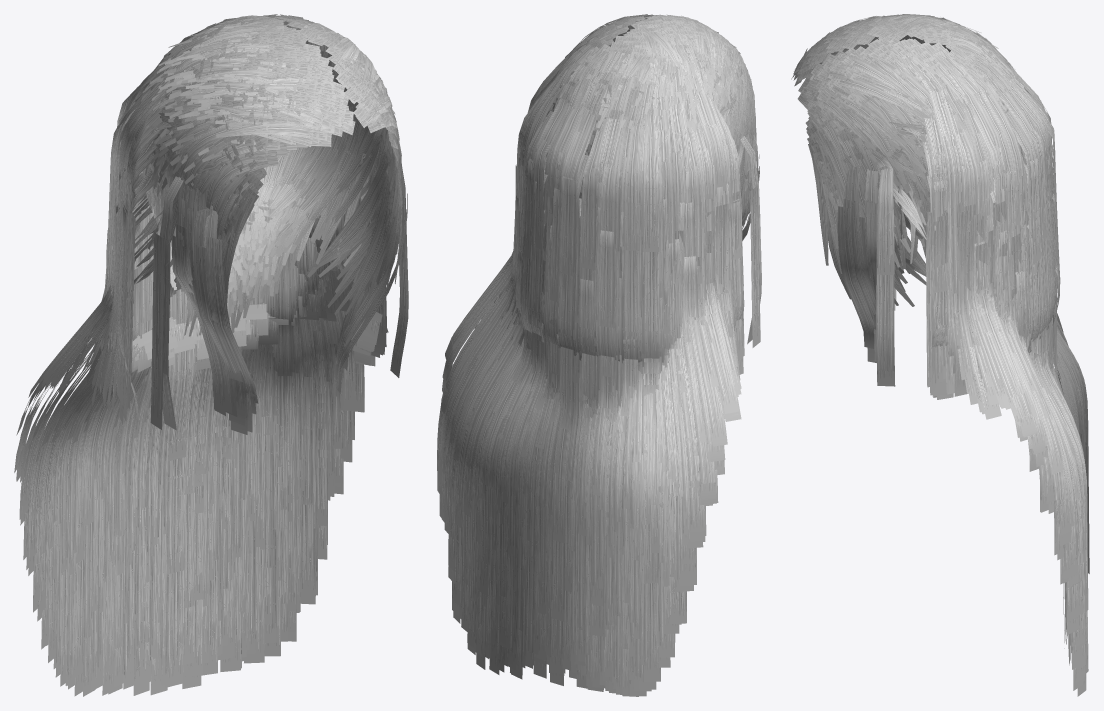
Rendered from NC_Head_Female_Cards4.fbx.
3 views of the same model, side by side, from view 1: azimuth 30°, elevation 25°; view 2: azimuth 150°, elevation 25°; view 3: azimuth 270°, elevation 25° (orthographic). The views are drawn at different scales.
Parts seen in each view (by area): view 1: Hair_LongStraight_CapCards, Hair_Bob_Cards, Hair_Bob_Cards_2, Hair_LongStraight_CapCards_2; view 2: Hair_Bob_Cards_2, Hair_LongStraight_CapCards, Hair_LongStraight_CapCards_2, Hair_Bob_Cards; view 3: Hair_Bob_Cards_2, Hair_Bob_Cards, Hair_LongStraight_CapCards, Hair_LongStraight_CapCards_2.
Part boxes in pixels (bbox=[...]): Hair_LongStraight_CapCards: bbox=[16, 131, 401, 696]; Hair_Bob_Cards: bbox=[141, 14, 402, 336]; Hair_Bob_Cards_2: bbox=[57, 15, 408, 434]; Hair_LongStraight_CapCards_2: bbox=[14, 173, 407, 690]; Hair_Bob_Cards_2: bbox=[481, 15, 761, 375]; Hair_LongStraight_CapCards: bbox=[437, 127, 760, 696]; Hair_LongStraight_CapCards_2: bbox=[437, 138, 759, 695]; Hair_Bob_Cards: bbox=[543, 14, 756, 220]; Hair_Bob_Cards_2: bbox=[792, 14, 1060, 397]; Hair_Bob_Cards: bbox=[791, 14, 1027, 291]; Hair_LongStraight_CapCards: bbox=[819, 164, 1088, 696]; Hair_LongStraight_CapCards_2: bbox=[837, 194, 1089, 672].
Bounding box in the file's own units: 0.9851 × 1.92 × 0.8295.
1 material, 1 textured.
